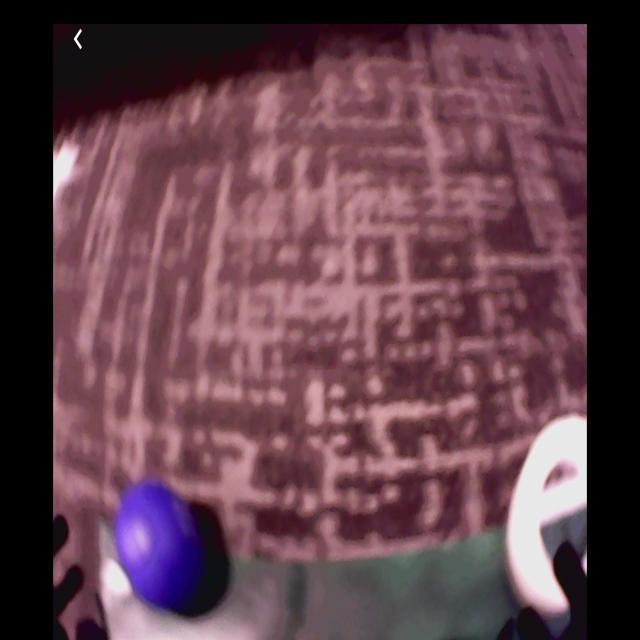ball: (118, 487, 203, 606)
